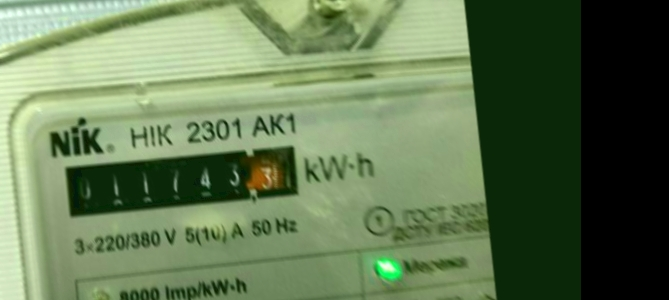0: (76, 173, 93, 202)
1: (137, 167, 152, 196), (108, 170, 121, 198)
3: (226, 160, 243, 188), (258, 166, 274, 192)
4: (196, 163, 213, 191)
7: (166, 163, 184, 193)
screen: (52, 131, 312, 232)
